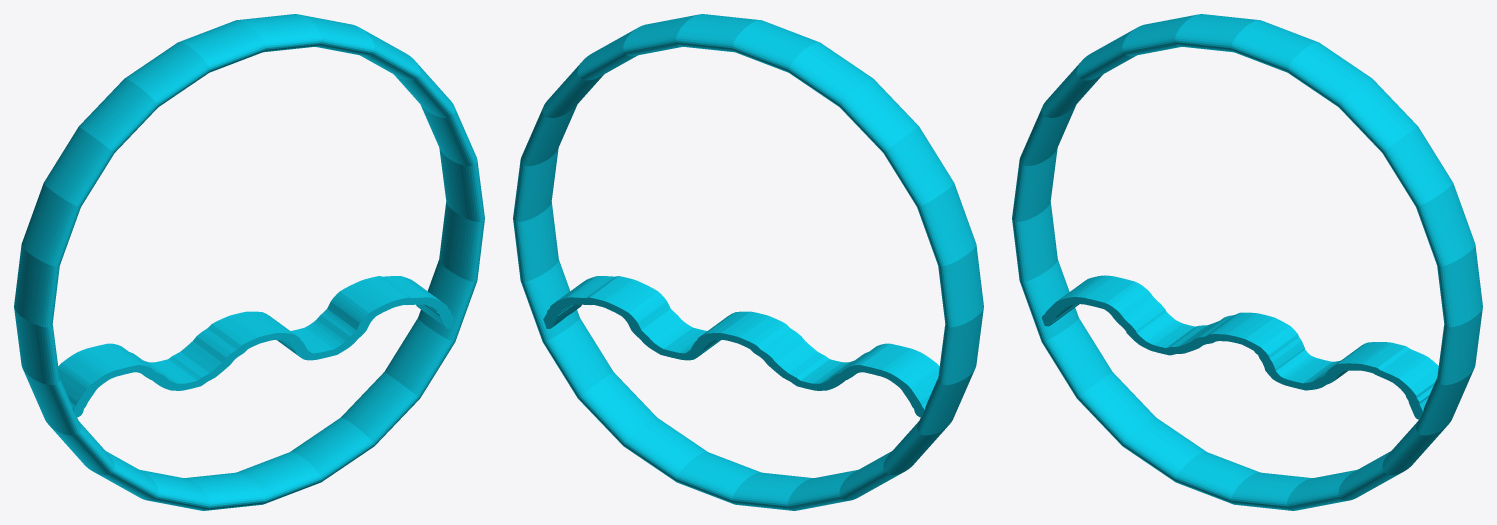
File: icon_warn1.fbx
The picture shows the model from 3 angles, left to right: view 1: azimuth 30°, elevation 25°; view 2: azimuth 150°, elevation 25°; view 3: azimuth 330°, elevation 25°; orthographic projection.
Parts seen in each view (by area): view 1: obj_0.008; view 2: obj_0.008; view 3: obj_0.008.
Boxes of the visible parts, bbox=[...] form: obj_0.008: bbox=[14, 14, 484, 510]; obj_0.008: bbox=[513, 14, 983, 510]; obj_0.008: bbox=[1012, 14, 1482, 510].
Size of the model in its own units: 4000 by 4000 by 500.
